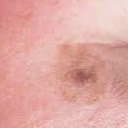Melanoma: (58, 40, 128, 99)
